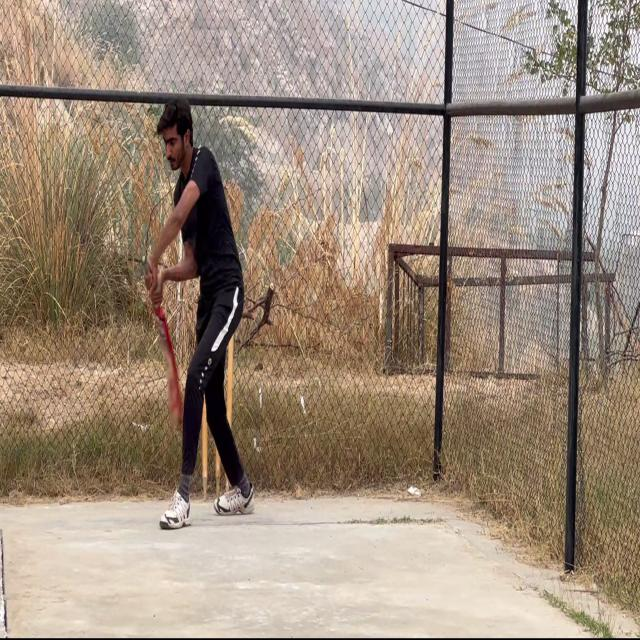Batsman: (142, 98, 260, 535)
